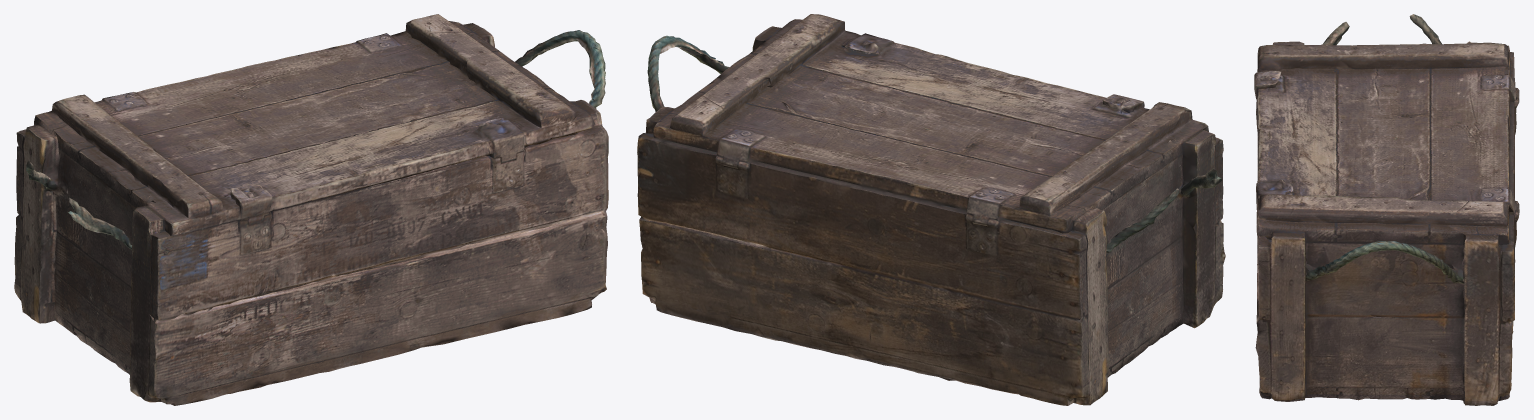
The model's file is MOD_WoodCrateA.fbx.
3 renders of one model, left to right at view 1: azimuth 30°, elevation 25°; view 2: azimuth 150°, elevation 25°; view 3: azimuth 270°, elevation 25°, orthographic. The views are drawn at different scales.
Parts seen in each view (by area): view 1: MOD_WoodCrateA; view 2: MOD_WoodCrateA; view 3: MOD_WoodCrateA.
Part boxes in pixels (x1,y1,x2,y2): MOD_WoodCrateA: [14, 14, 608, 405]; MOD_WoodCrateA: [637, 14, 1225, 405]; MOD_WoodCrateA: [1254, 14, 1519, 405].
Size of the model in its own units: 97.29 by 35.72 by 45.71.
